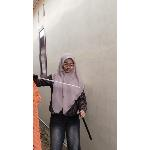Pedang: (33, 71, 88, 91)
